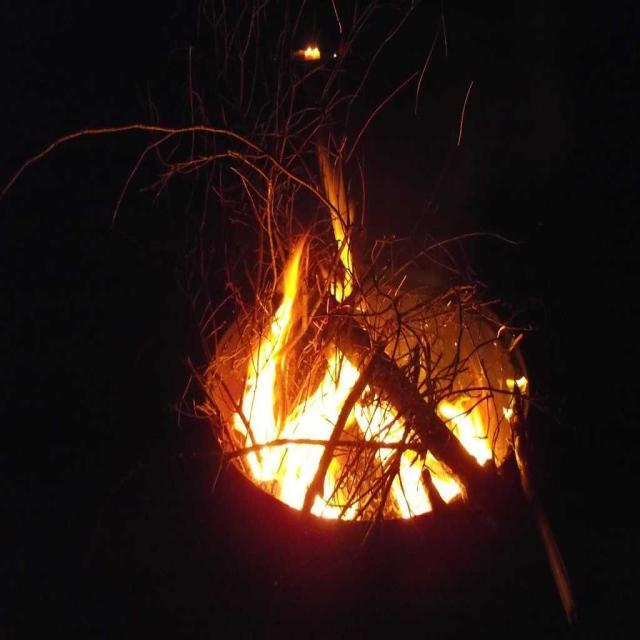Fire: (232, 301, 512, 524)
